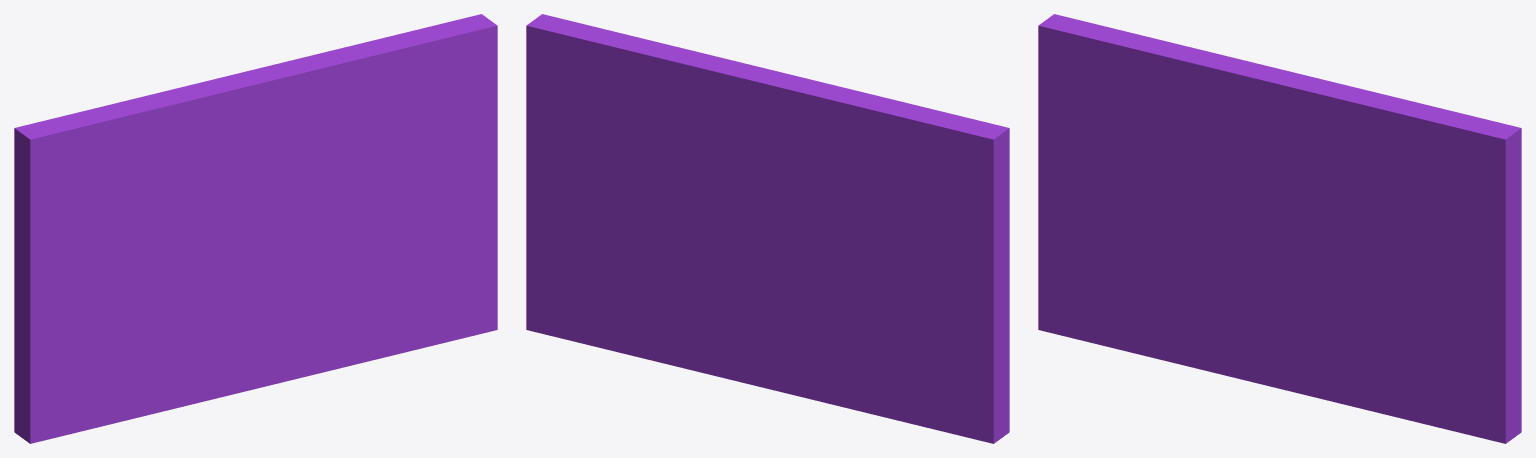
Rendered from Barrier_69_chunks.fbx.
3 renders of one model, left to right at view 1: azimuth 30°, elevation 25°; view 2: azimuth 150°, elevation 25°; view 3: azimuth 330°, elevation 25°, orthographic.
Visible parts, largest first — view 1: Barrier_69_2, Barrier_69_1, Barrier_69_3, Barrier_69_4, Barrier_69_6, Barrier_69_0, Barrier_69_5; view 2: Barrier_69_2, Barrier_69_1, Barrier_69_3, Barrier_69_4, Barrier_69_6; view 3: Barrier_69_1, Barrier_69_2, Barrier_69_3, Barrier_69_4, Barrier_69_6, Barrier_69_0, Barrier_69_5.
Part boxes in pixels (x1,y1,x2,y2): Barrier_69_2: [14, 120, 258, 443]; Barrier_69_1: [248, 70, 497, 390]; Barrier_69_3: [48, 74, 286, 209]; Barrier_69_4: [317, 14, 497, 193]; Barrier_69_6: [236, 26, 478, 121]; Barrier_69_0: [80, 140, 286, 263]; Barrier_69_5: [273, 114, 333, 214]; Barrier_69_2: [757, 120, 1009, 443]; Barrier_69_1: [526, 78, 769, 388]; Barrier_69_3: [723, 76, 975, 236]; Barrier_69_4: [526, 14, 741, 225]; Barrier_69_6: [561, 18, 795, 123]; Barrier_69_1: [1256, 180, 1521, 443]; Barrier_69_2: [1038, 14, 1266, 382]; Barrier_69_3: [1071, 22, 1294, 213]; Barrier_69_4: [1325, 115, 1521, 219]; Barrier_69_6: [1251, 68, 1486, 148]; Barrier_69_0: [1088, 50, 1295, 260]; Barrier_69_5: [1281, 133, 1342, 225].
Size of the model in its own units: 462 by 288 by 27.2.
